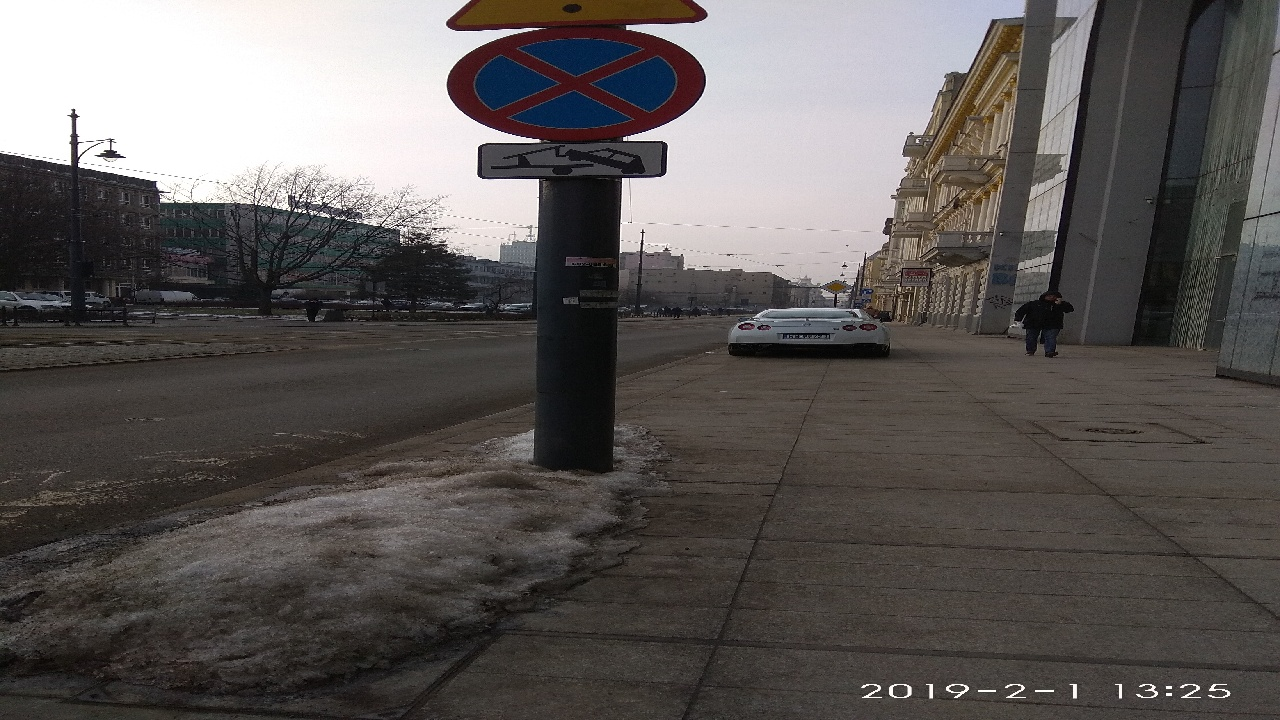B35: (437, 33, 716, 135)
